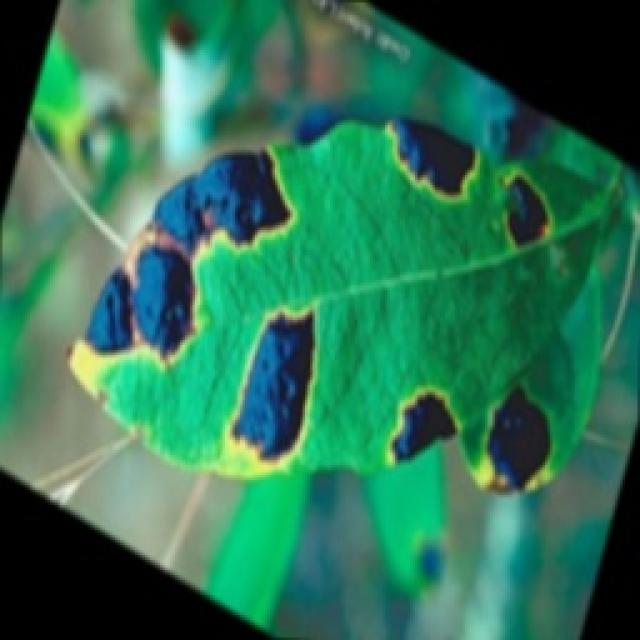Tar_Spot: (82, 161, 613, 500)
